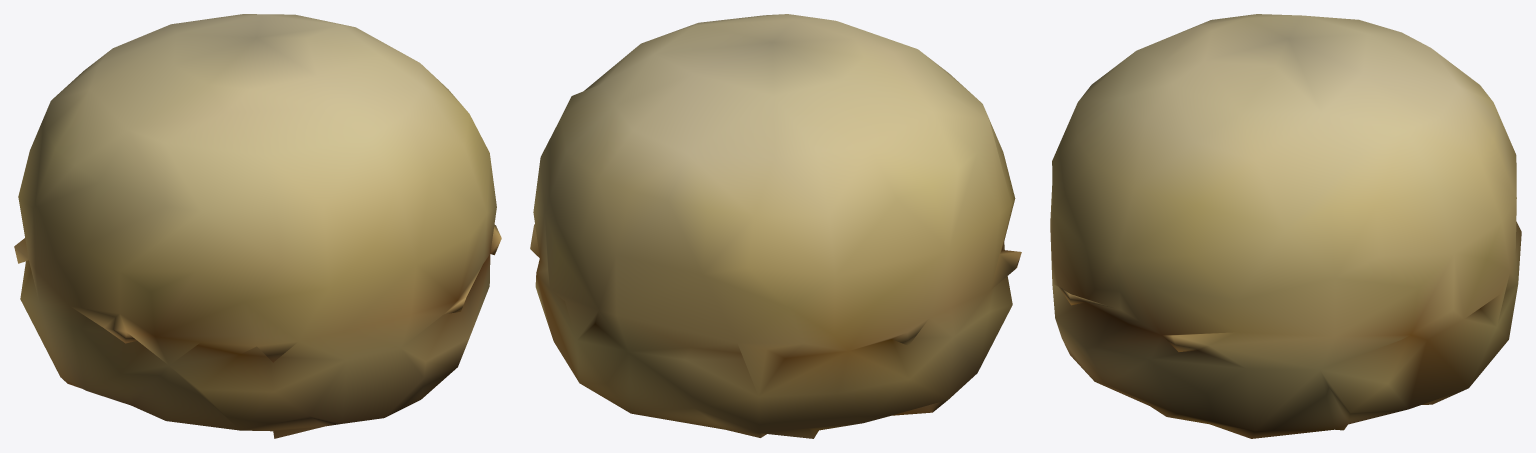
Rendered from haybale_far.glb.
3 renders of one model, left to right at view 1: azimuth 30°, elevation 25°; view 2: azimuth 150°, elevation 25°; view 3: azimuth 270°, elevation 25°, orthographic.
Parts seen in each view (by area): view 1: haybale; view 2: haybale; view 3: haybale.
Part boxes in pixels (x1=…): haybale: x1=14, y1=14, x2=501, y2=438; haybale: x1=530, y1=14, x2=1021, y2=438; haybale: x1=1050, y1=14, x2=1521, y2=438.
Size of the model in its own units: 1.27 by 1 by 1.27.
